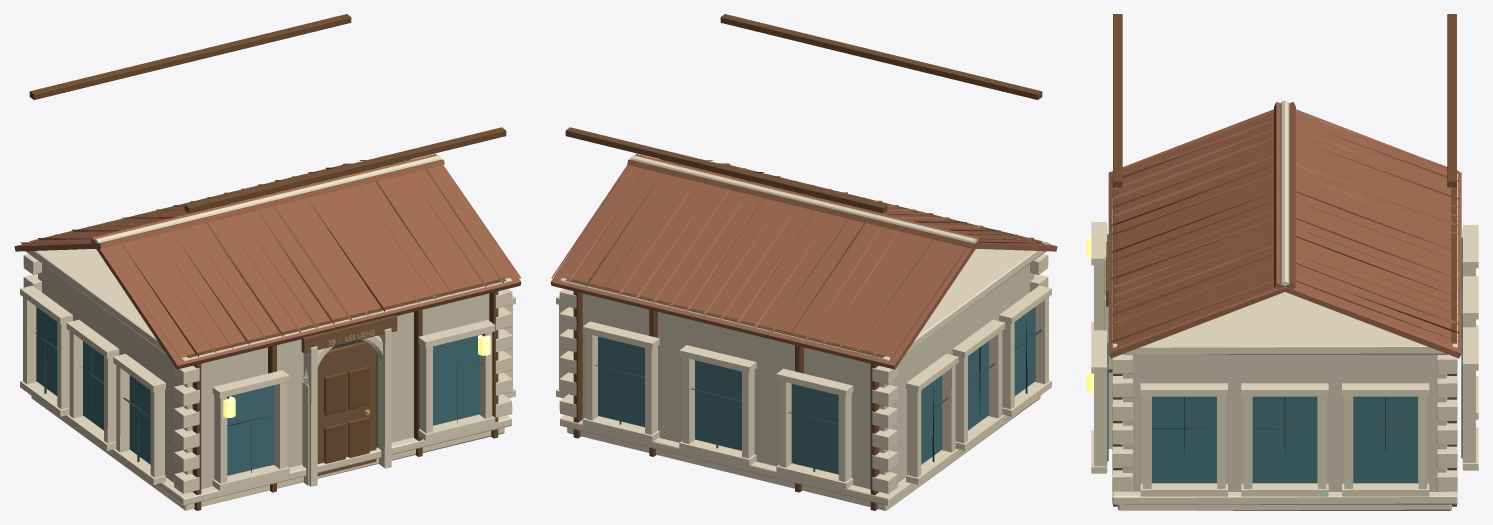
The model's file is turquie-1-lod.glb.
3 renders of one model, left to right at view 1: azimuth 30°, elevation 25°; view 2: azimuth 150°, elevation 25°; view 3: azimuth 270°, elevation 25°, orthographic. The views are drawn at different scales.
Visible parts, largest first — view 1: turquie-1_Regional roof.001, turquie-1_Dressed stone.001, turquie-1_Masonry plaster.001, turquie-1_Walnut.001, turquie-1_Window blue.001, turquie-1_Regional painted wood.001, turquie-1_Forged midnight.001; view 2: turquie-1_Regional roof.001, turquie-1_Dressed stone.001, turquie-1_Masonry plaster.001, turquie-1_Window blue.001, turquie-1_Walnut.001, turquie-1_Forged midnight.001; view 3: turquie-1_Regional roof.001, turquie-1_Dressed stone.001, turquie-1_Window blue.001, turquie-1_Masonry plaster.001, turquie-1_Walnut.001, turquie-1_Forged midnight.001.
Part boxes in pixels (left/top/right/bottom): turquie-1_Regional roof.001: left=14, top=153, right=521, bottom=369; turquie-1_Dressed stone.001: left=20, top=155, right=515, bottom=510; turquie-1_Masonry plaster.001: left=38, top=264, right=489, bottom=488; turquie-1_Walnut.001: left=29, top=14, right=506, bottom=510; turquie-1_Window blue.001: left=36, top=307, right=479, bottom=475; turquie-1_Regional painted wood.001: left=301, top=315, right=397, bottom=475; turquie-1_Forged midnight.001: left=33, top=316, right=484, bottom=472; turquie-1_Regional roof.001: left=550, top=153, right=1057, bottom=369; turquie-1_Dressed stone.001: left=556, top=155, right=1051, bottom=510; turquie-1_Masonry plaster.001: left=573, top=264, right=1034, bottom=489; turquie-1_Window blue.001: left=598, top=307, right=1035, bottom=474; turquie-1_Walnut.001: left=565, top=14, right=1042, bottom=510; turquie-1_Forged midnight.001: left=595, top=321, right=1042, bottom=471; turquie-1_Regional roof.001: left=1108, top=102, right=1461, bottom=358; turquie-1_Dressed stone.001: left=1091, top=100, right=1478, bottom=510; turquie-1_Window blue.001: left=1107, top=234, right=1462, bottom=482; turquie-1_Masonry plaster.001: left=1123, top=354, right=1446, bottom=491; turquie-1_Walnut.001: left=1113, top=14, right=1456, bottom=506; turquie-1_Forged midnight.001: left=1108, top=369, right=1417, bottom=456.
Bounding box in the file's own units: 13.93 × 11.21 × 12.08.
